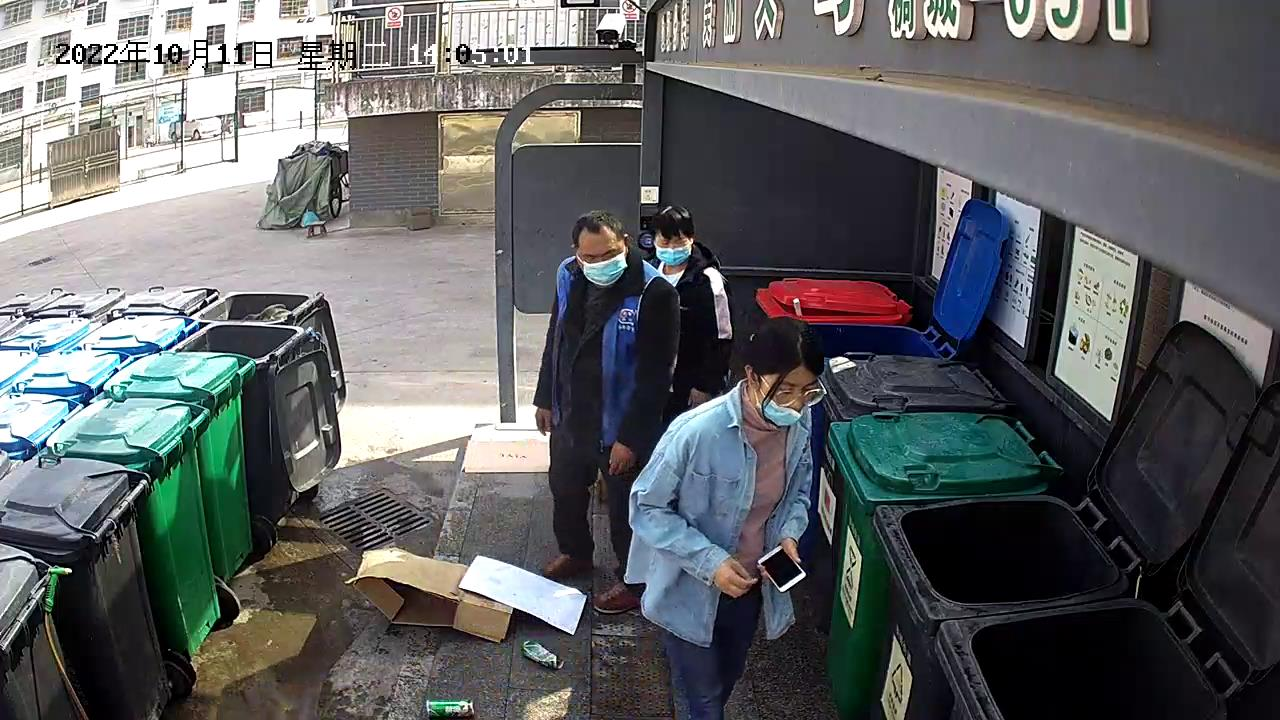lvzhipin: (519, 634, 566, 673), (424, 696, 477, 717)
person: (644, 199, 736, 409)
worker: (620, 315, 829, 720), (529, 207, 681, 618)
zhizhipin: (342, 543, 588, 644), (458, 433, 551, 476)
